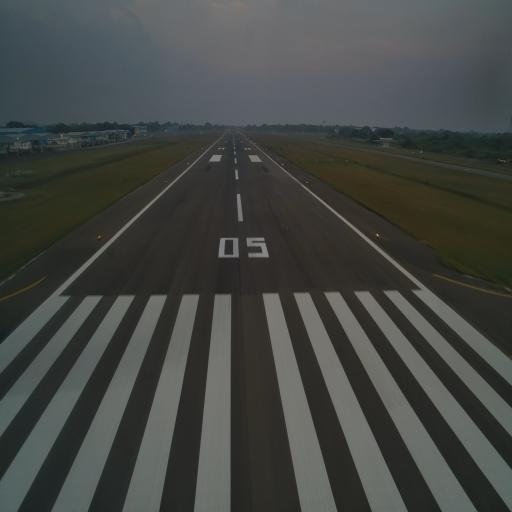on: (98, 232, 102, 242), (376, 232, 379, 240), (306, 180, 309, 186), (165, 179, 168, 183)
